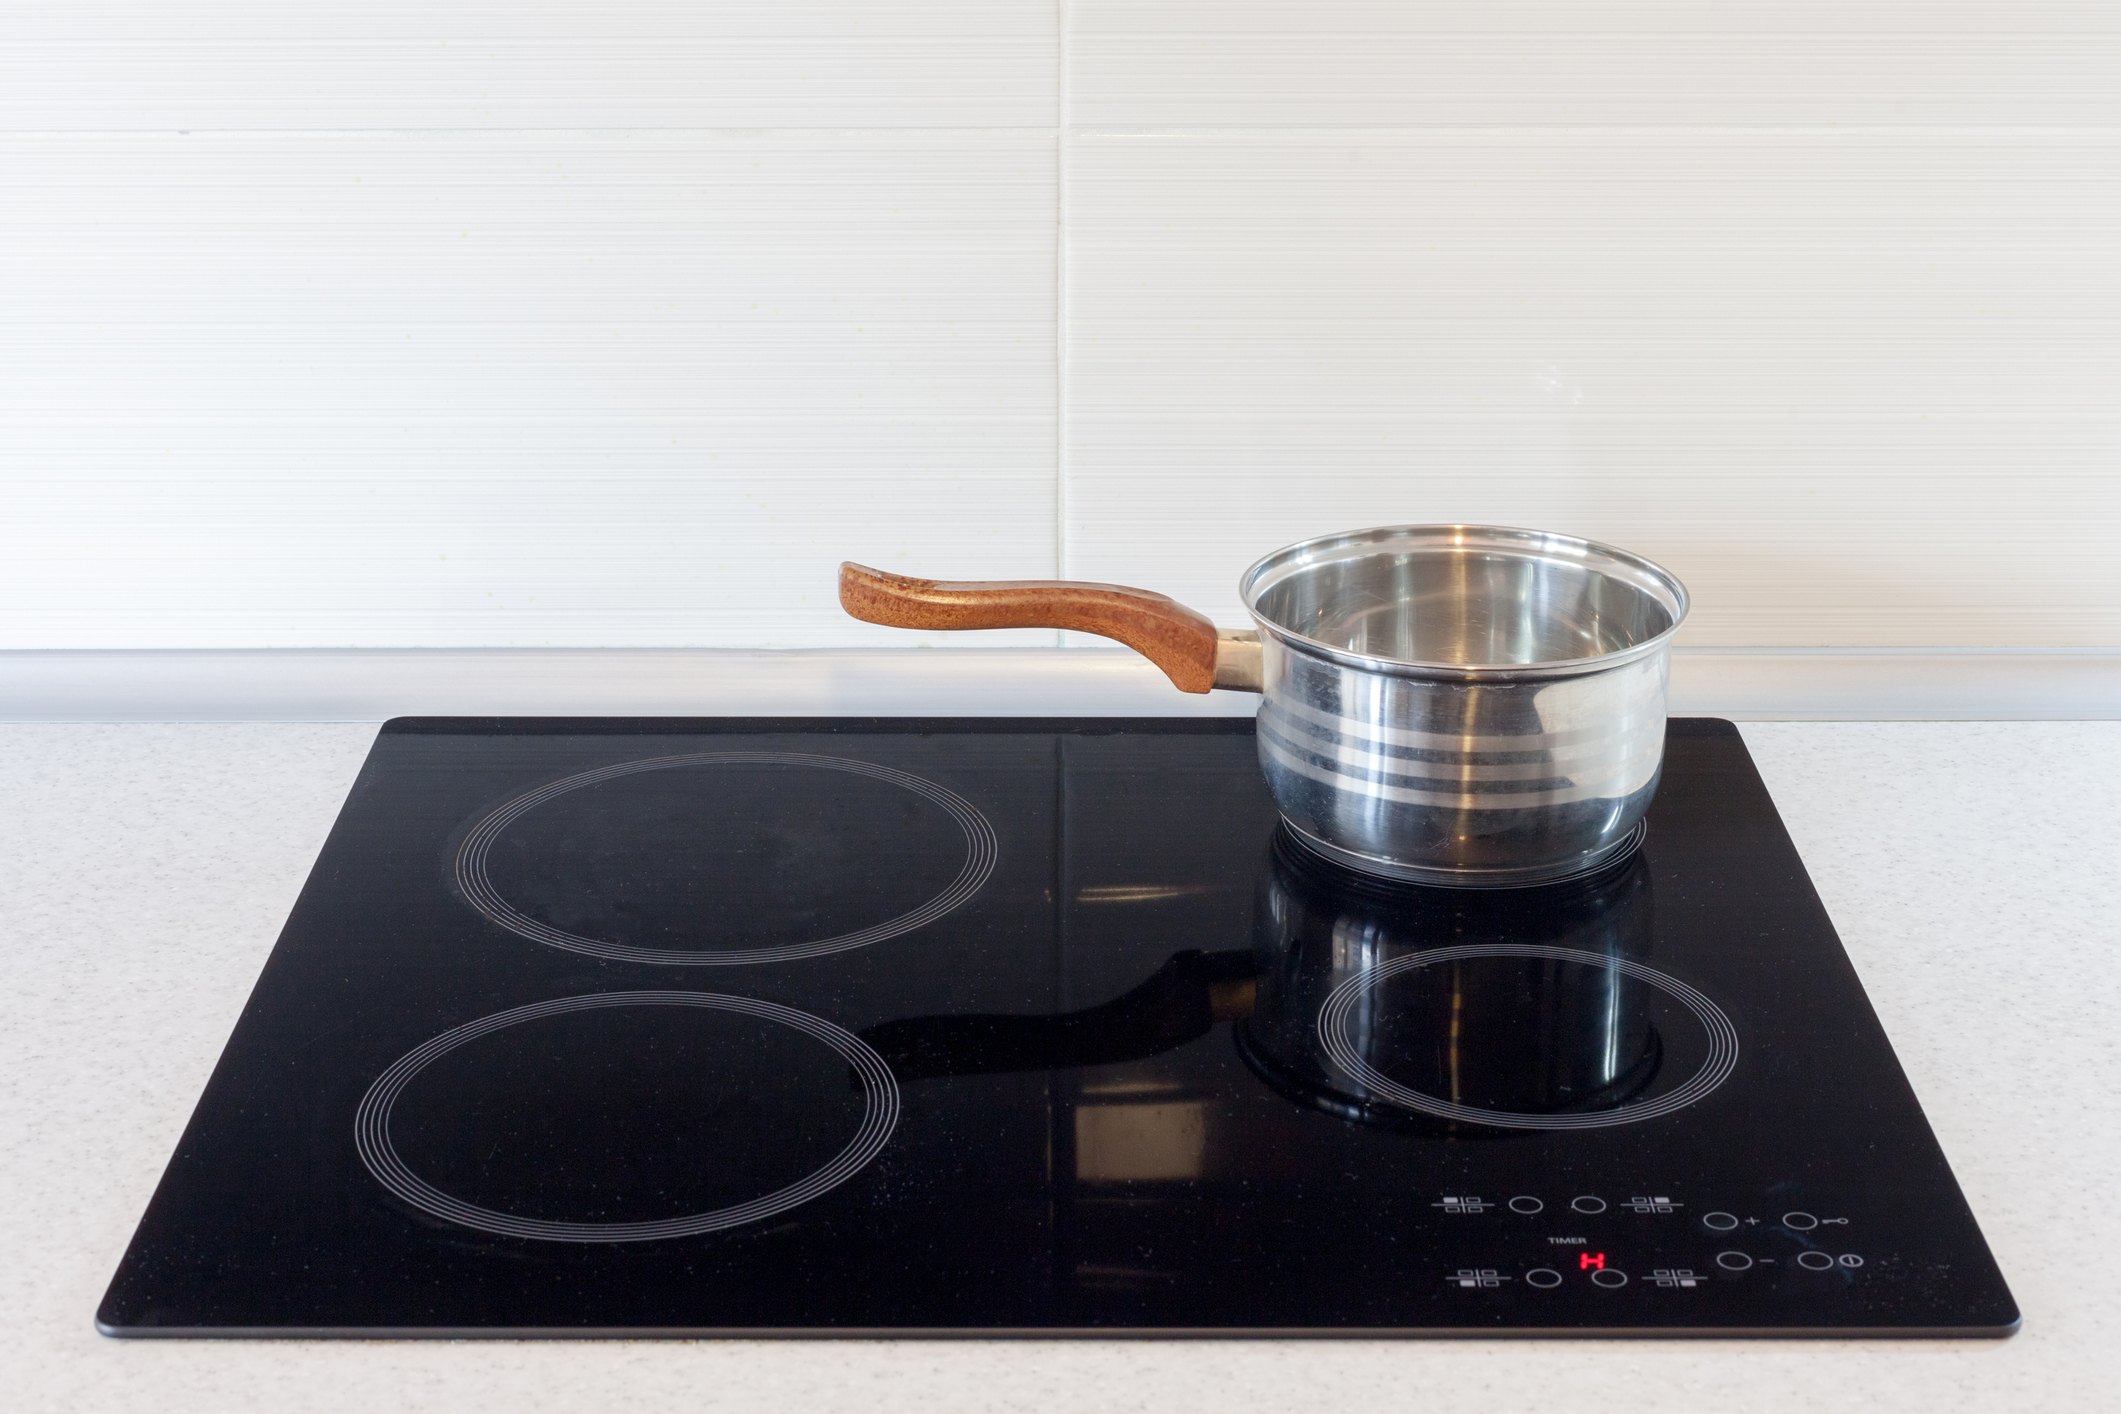stove: (167, 677, 2039, 1345)
